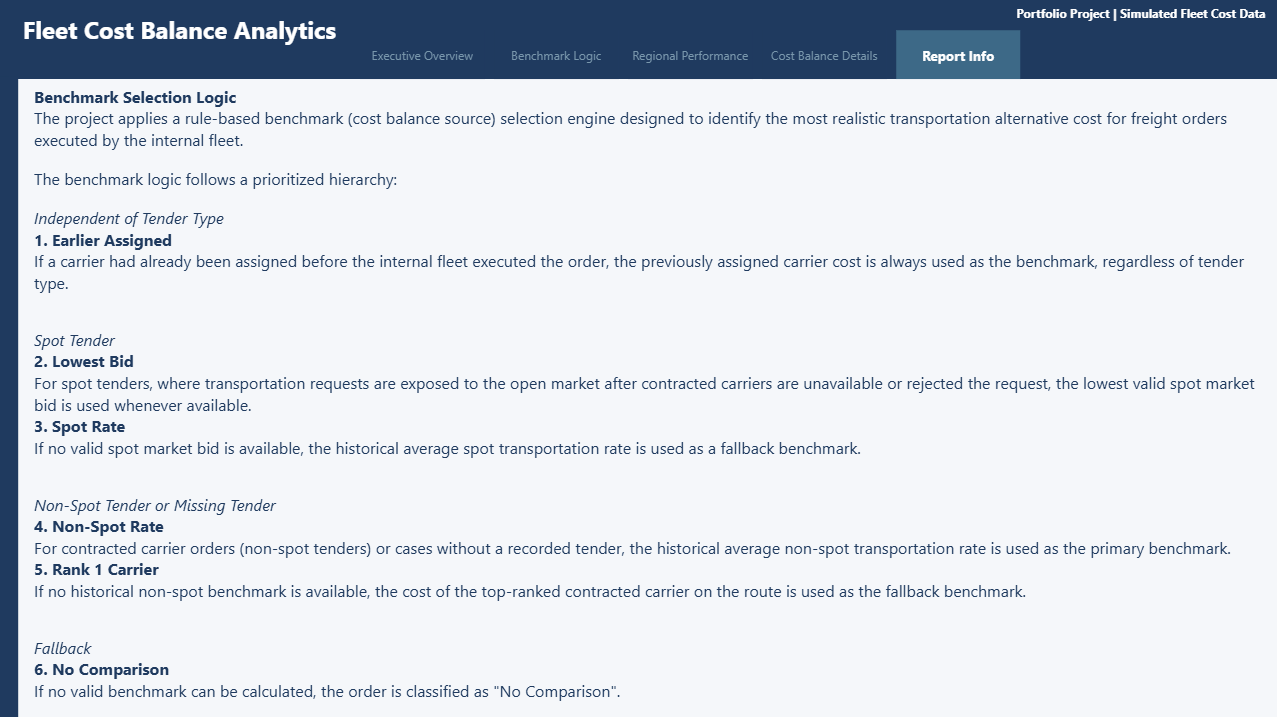

The page's visual inventory and layout, read from the dashboard file:
{"tool":"powerbi","page":{"name":"Report Info","canvas":[1280,720],"ordinal":4},"visuals":[{"type":"shape","box":[0,0,1280.3,80],"z":0},{"type":"textbox","box":[19.2,10,332.1,67.2],"z":1000},{"type":"textbox","box":[1012.4,0,267.6,39.8],"z":2000},{"type":"pageNavigator","box":[360.9,31,661.4,49.4],"z":3000},{"type":"textbox","box":[0,80.7,1280,640],"z":4000}]}

Visuals, with their boxes on the page's 1280x720 design canvas (x1, y1, x2, y2). These are canvas units, not pixel positions in the 1277x717 screenshot, which may show the page scaled, cropped or inside an application window:
shape: box=[0, 0, 1280, 80]
textbox: box=[19, 10, 351, 77]
textbox: box=[1012, 0, 1280, 40]
pageNavigator: box=[361, 31, 1022, 80]
textbox: box=[0, 81, 1280, 721]
